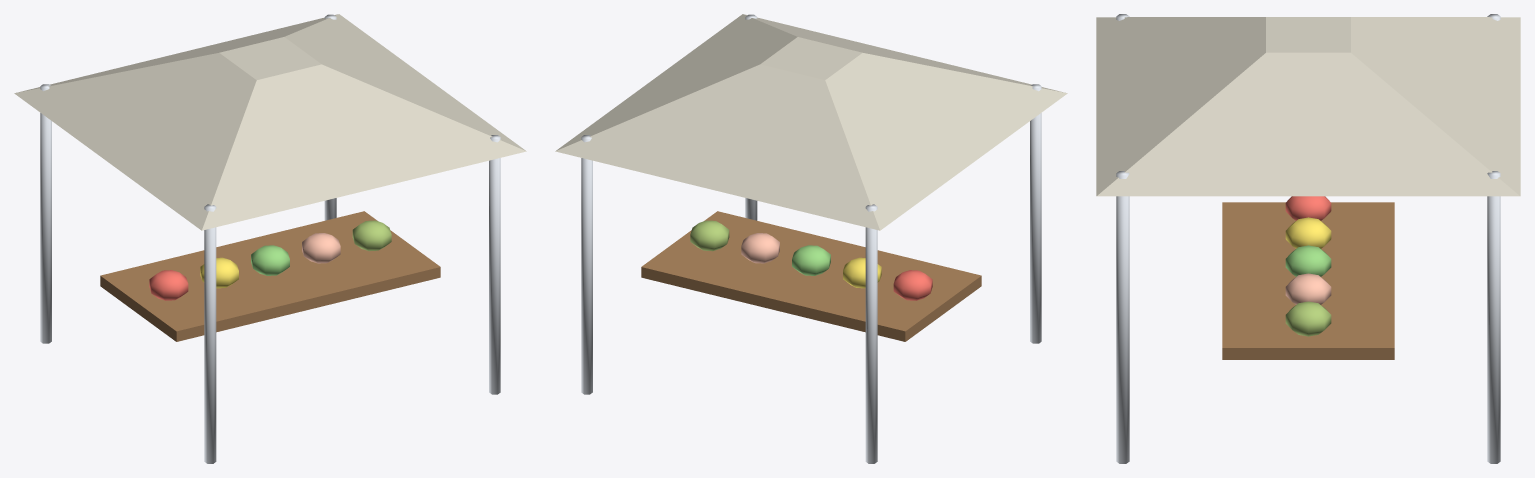
The model's file is Prop_PasarCanopy.fbx.
The picture shows the model from 3 angles, left to right: view 1: azimuth 30°, elevation 25°; view 2: azimuth 150°, elevation 25°; view 3: azimuth 270°, elevation 25°; orthographic projection. The views are drawn at different scales.
Visible parts, largest first — view 1: Prop_PasarCanopy; view 2: Prop_PasarCanopy; view 3: Prop_PasarCanopy.
Boxes of the visible parts, x1,y1,x2,y2 form: Prop_PasarCanopy: (14, 14, 526, 463); Prop_PasarCanopy: (555, 14, 1067, 463); Prop_PasarCanopy: (1096, 14, 1520, 463).
Size of the model in its own units: 3.2 by 2.9 by 3.2.
